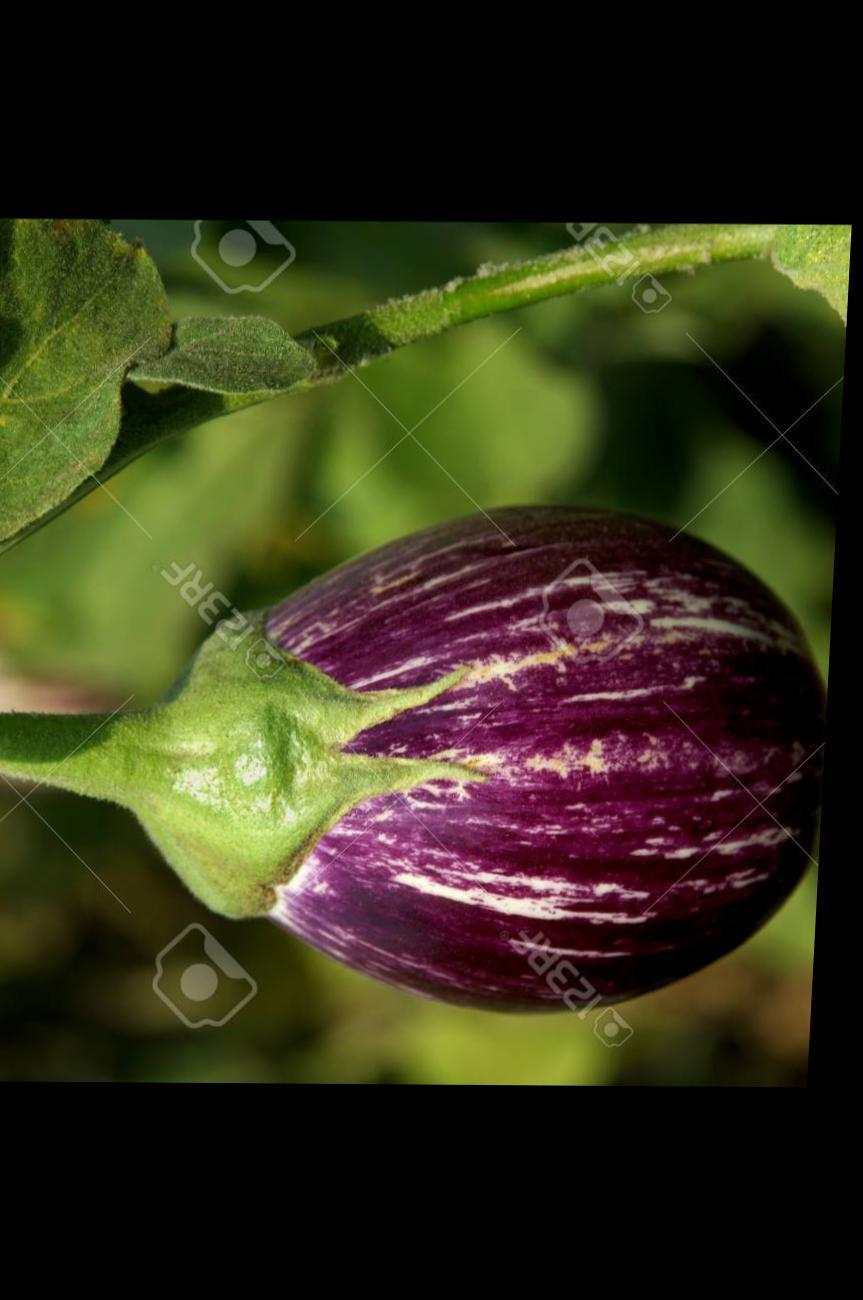eggplant: (0, 466, 843, 1032)
